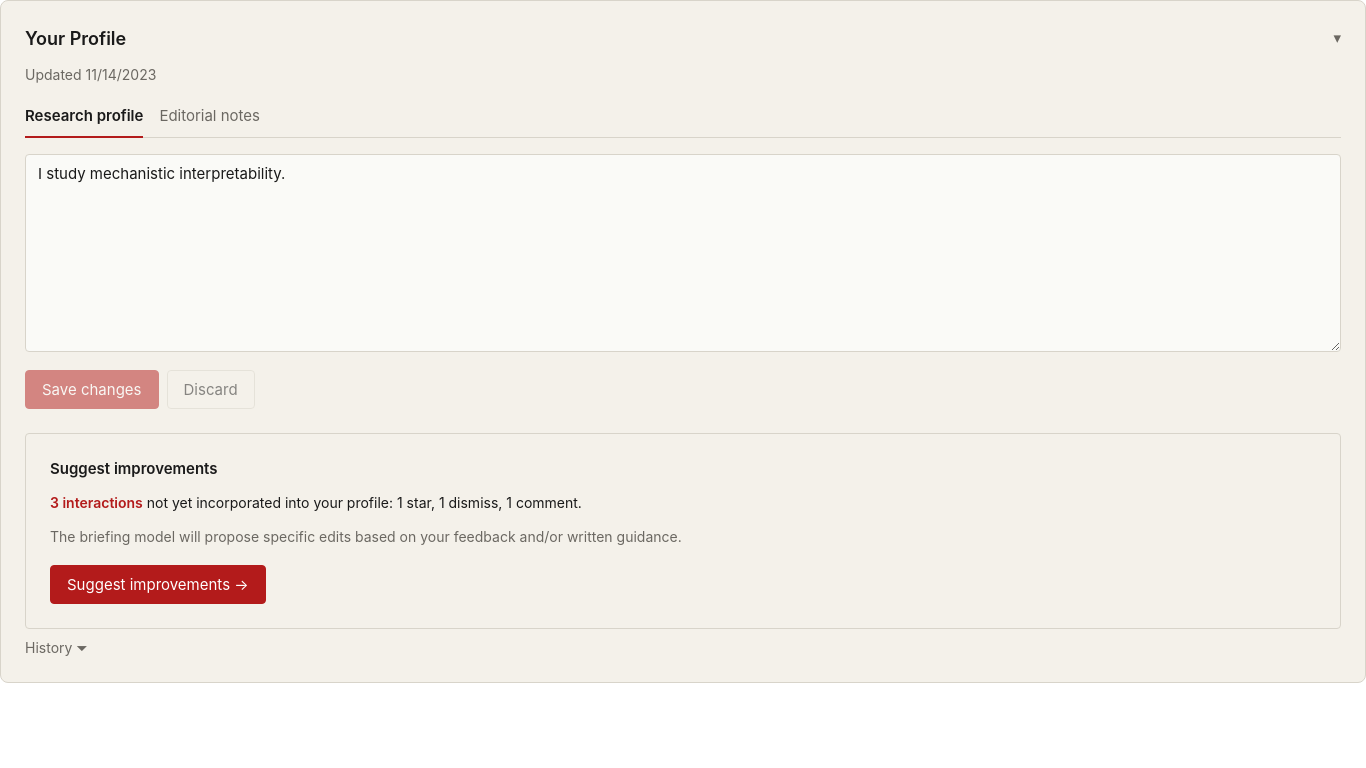
it: YourProfile › shows the Unsaved changes indicator when the draft differs from profile.content
Replace the text in the text box with "different content" at [683, 252], box [25, 154, 1341, 352]
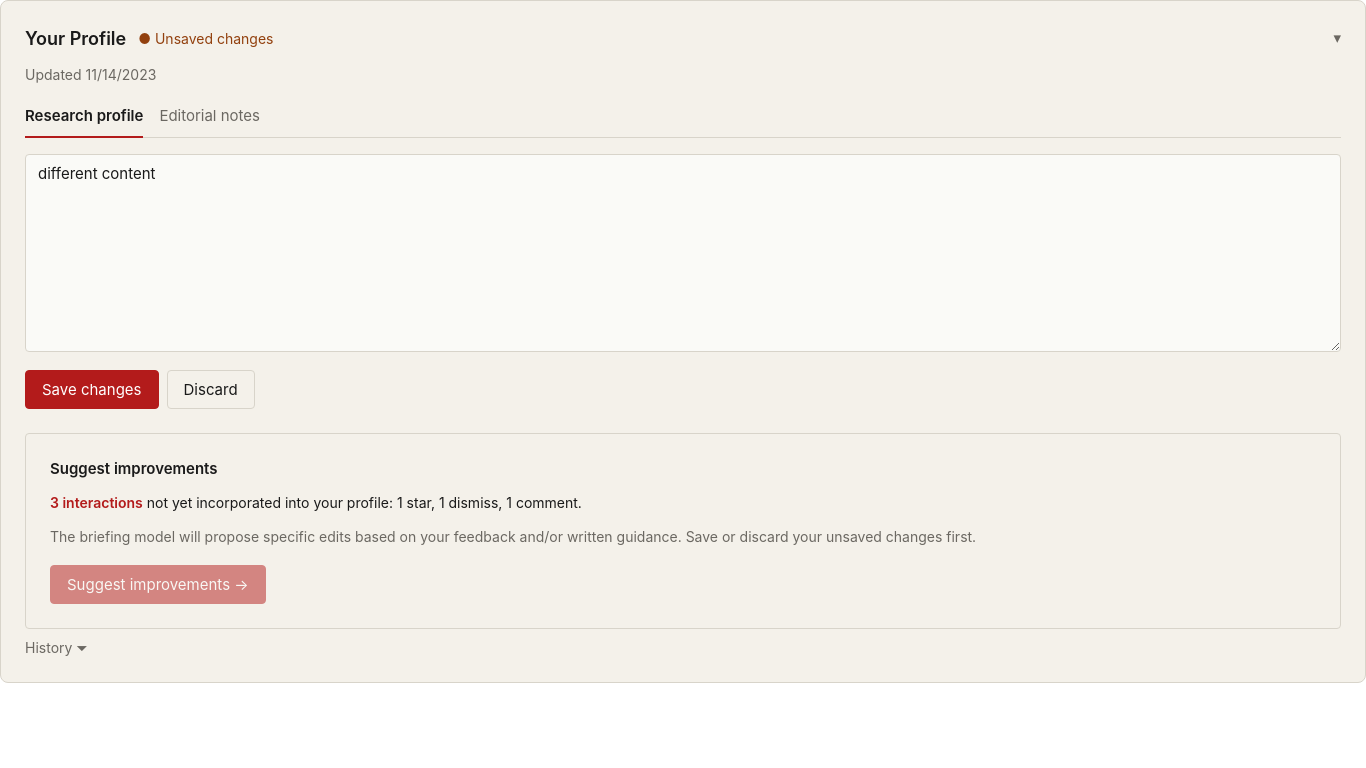
Now the text labelled "Unsaved changes" is shown, box [138, 28, 274, 49]
